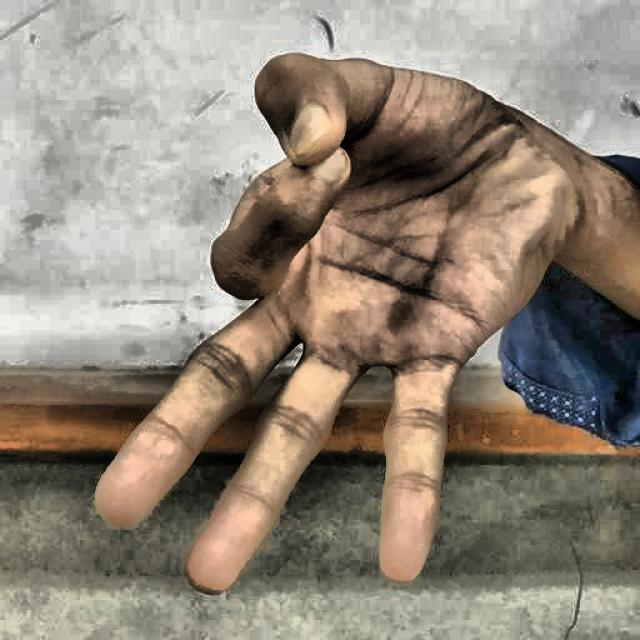Fa: (67, 28, 586, 621)
